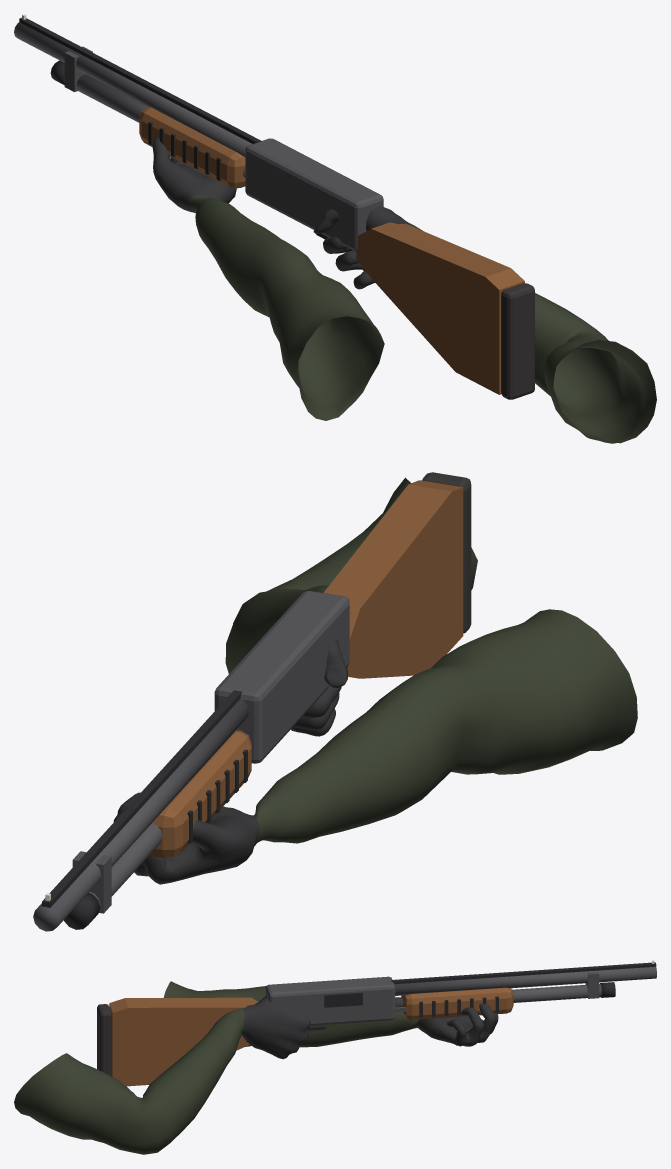
Rendered from shotgun_fp.glb.
3 views of the same model, one above another, from view 1: azimuth 30°, elevation 25°; view 2: azimuth 150°, elevation 25°; view 3: azimuth 270°, elevation 25° (orthographic). The views are drawn at different scales.
Parts seen in each view (by area): view 1: Arms, Stock, Receiver, Barrel, RecoilPad, Forend, Rib, MagTube; view 2: Arms, Stock, Receiver, Barrel, Forend, Rib, RecoilPad, MagTube, BarrelBand, MagCap; view 3: Arms, Stock, Receiver, Barrel, Forend, Rib, MagTube, RecoilPad, EjectionPort, BarrelBand.
Boxes of the visible parts, left/top/right/bottom form: Arms: left=152, top=137, right=656, bottom=443; Stock: left=356, top=222, right=524, bottom=394; Receiver: left=245, top=138, right=383, bottom=251; Barrel: left=14, top=22, right=252, bottom=156; RecoilPad: left=501, top=283, right=534, bottom=399; Forend: left=139, top=107, right=245, bottom=188; Rib: left=19, top=17, right=261, bottom=143; MagTube: left=64, top=74, right=245, bottom=177; Arms: left=113, top=477, right=637, bottom=884; Stock: left=323, top=480, right=463, bottom=678; Receiver: left=214, top=591, right=349, bottom=763; Barrel: left=33, top=699, right=249, bottom=931; Forend: left=149, top=730, right=251, bottom=857; Rib: left=42, top=690, right=241, bottom=907; RecoilPad: left=422, top=472, right=471, bottom=633; MagTube: left=89, top=729, right=244, bottom=906; BarrelBand: left=72, top=851, right=111, bottom=913; MagCap: left=63, top=893, right=99, bottom=929; Arms: left=14, top=981, right=498, bottom=1154; Stock: left=109, top=997, right=257, bottom=1086; Receiver: left=265, top=976, right=395, bottom=1025; Barrel: left=394, top=966, right=656, bottom=995; Forend: left=401, top=987, right=513, bottom=1019; Rib: left=391, top=962, right=656, bottom=984; MagTube: left=395, top=984, right=601, bottom=1007; RecoilPad: left=97, top=1004, right=111, bottom=1076; EjectionPort: left=324, top=992, right=362, bottom=1007; BarrelBand: left=585, top=972, right=599, bottom=998.
Bounding box in the file's own units: 0.4303 × 0.2438 × 1.14.
